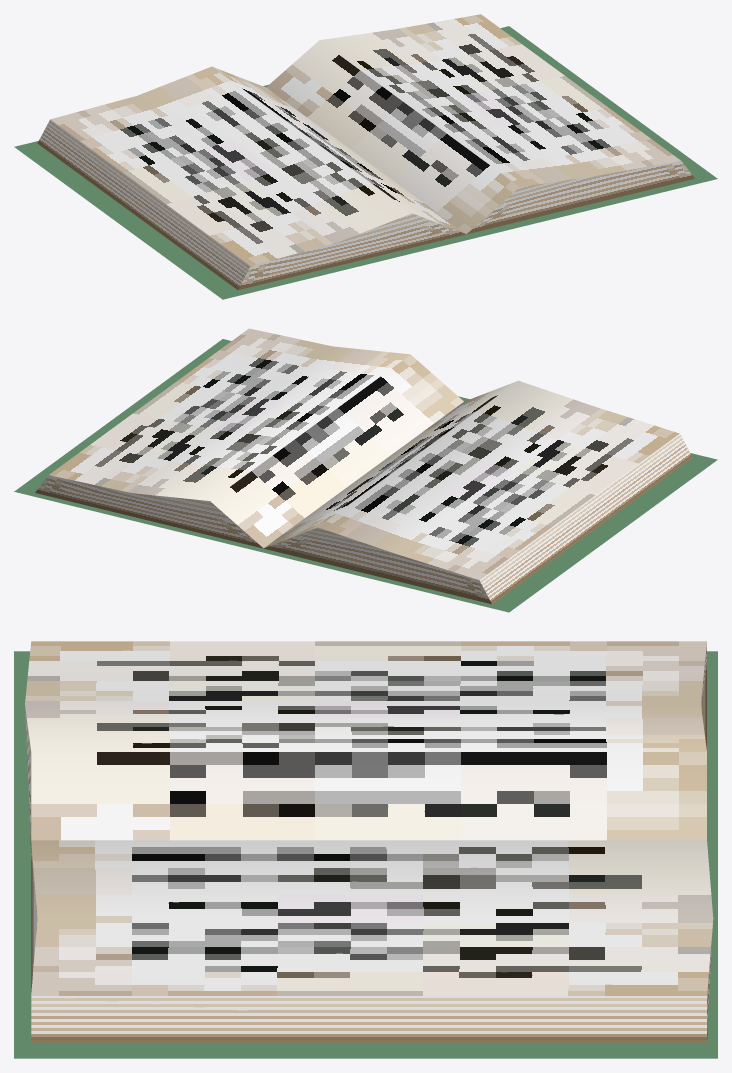
File: Book_03.glb
The picture shows the model from 3 angles, top to bottom: view 1: azimuth 30°, elevation 25°; view 2: azimuth 150°, elevation 25°; view 3: azimuth 270°, elevation 25°; orthographic projection. The views are drawn at different scales.
Parts seen in each view (by area): view 1: BOOK_03; view 2: BOOK_03; view 3: BOOK_03.
Boxes of the visible parts, left/top/right/bottom form: BOOK_03: left=14, top=14, right=717, bottom=299; BOOK_03: left=14, top=328, right=717, bottom=612; BOOK_03: left=14, top=641, right=717, bottom=1058.
Size of the model in its own units: 0.616 by 0.042 by 0.45.
2 materials, 2 textured.
